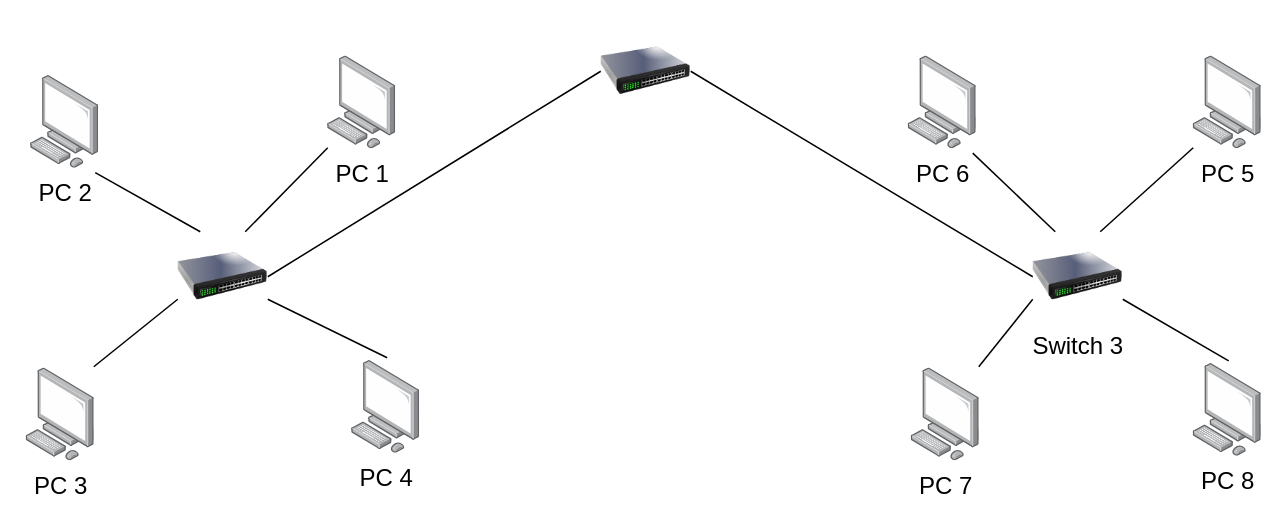
Some shapes in this 1287 by 525 pixel diagram are drawn without their labels. Here are the shapes that lost their labels. From the top down, the centre of each, then its label:
At [645,71]: "Switch 2".
At [222,276]: "Switch 1".
